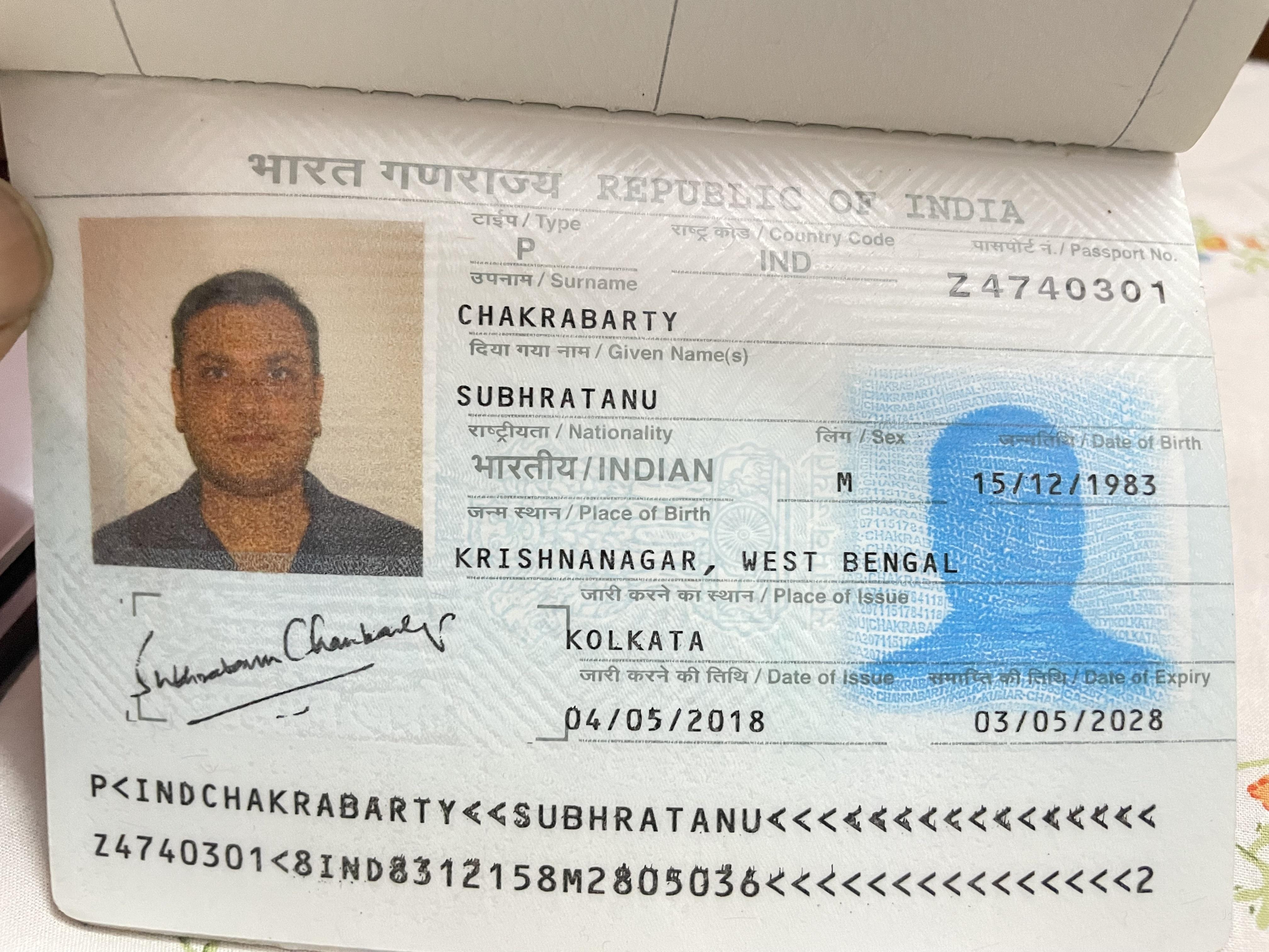DOB: (960, 460, 1179, 516)
Surname: (455, 298, 699, 338)
country_code: (743, 239, 825, 285)
date_of_expiry: (966, 699, 1182, 754)
date_of_issue: (548, 693, 790, 749)
details: (71, 749, 1199, 912)
name: (447, 367, 675, 419)
nationality: (460, 444, 740, 499)
passport_no: (936, 263, 1179, 315)
photo: (74, 214, 420, 578)
place_of_birth: (444, 534, 971, 578)
place_of_issue: (556, 617, 737, 668)
sex: (823, 460, 870, 511)
sign: (132, 601, 484, 733)
type: (499, 230, 545, 271)
